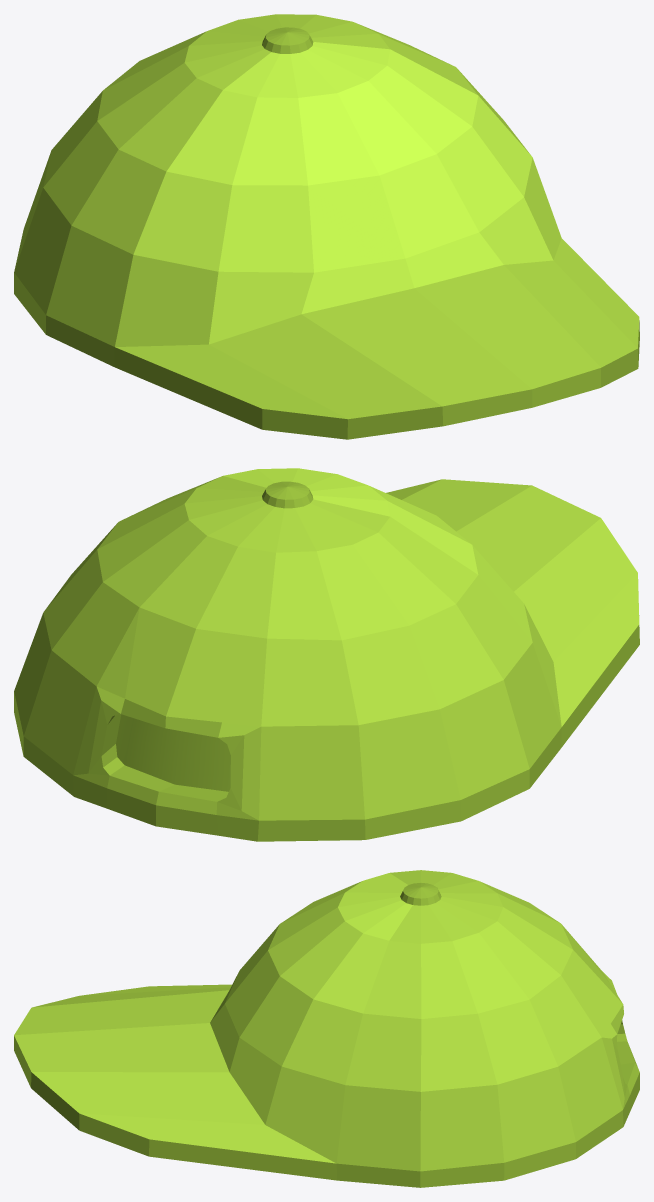
The model's file is SR_Cap_Green.fbx.
The picture shows the model from 3 angles, top to bottom: view 1: azimuth 30°, elevation 25°; view 2: azimuth 150°, elevation 25°; view 3: azimuth 270°, elevation 25°; orthographic projection. The views are drawn at different scales.
Visible parts, largest first — view 1: SR_Cap_Green; view 2: SR_Cap_Green; view 3: SR_Cap_Green.
Part boxes in pixels (x1,y1,x2,y2): SR_Cap_Green: [14, 14, 639, 439]; SR_Cap_Green: [14, 468, 639, 841]; SR_Cap_Green: [14, 870, 639, 1187].
Size of the model in its own units: 131 by 63.17 by 177.
